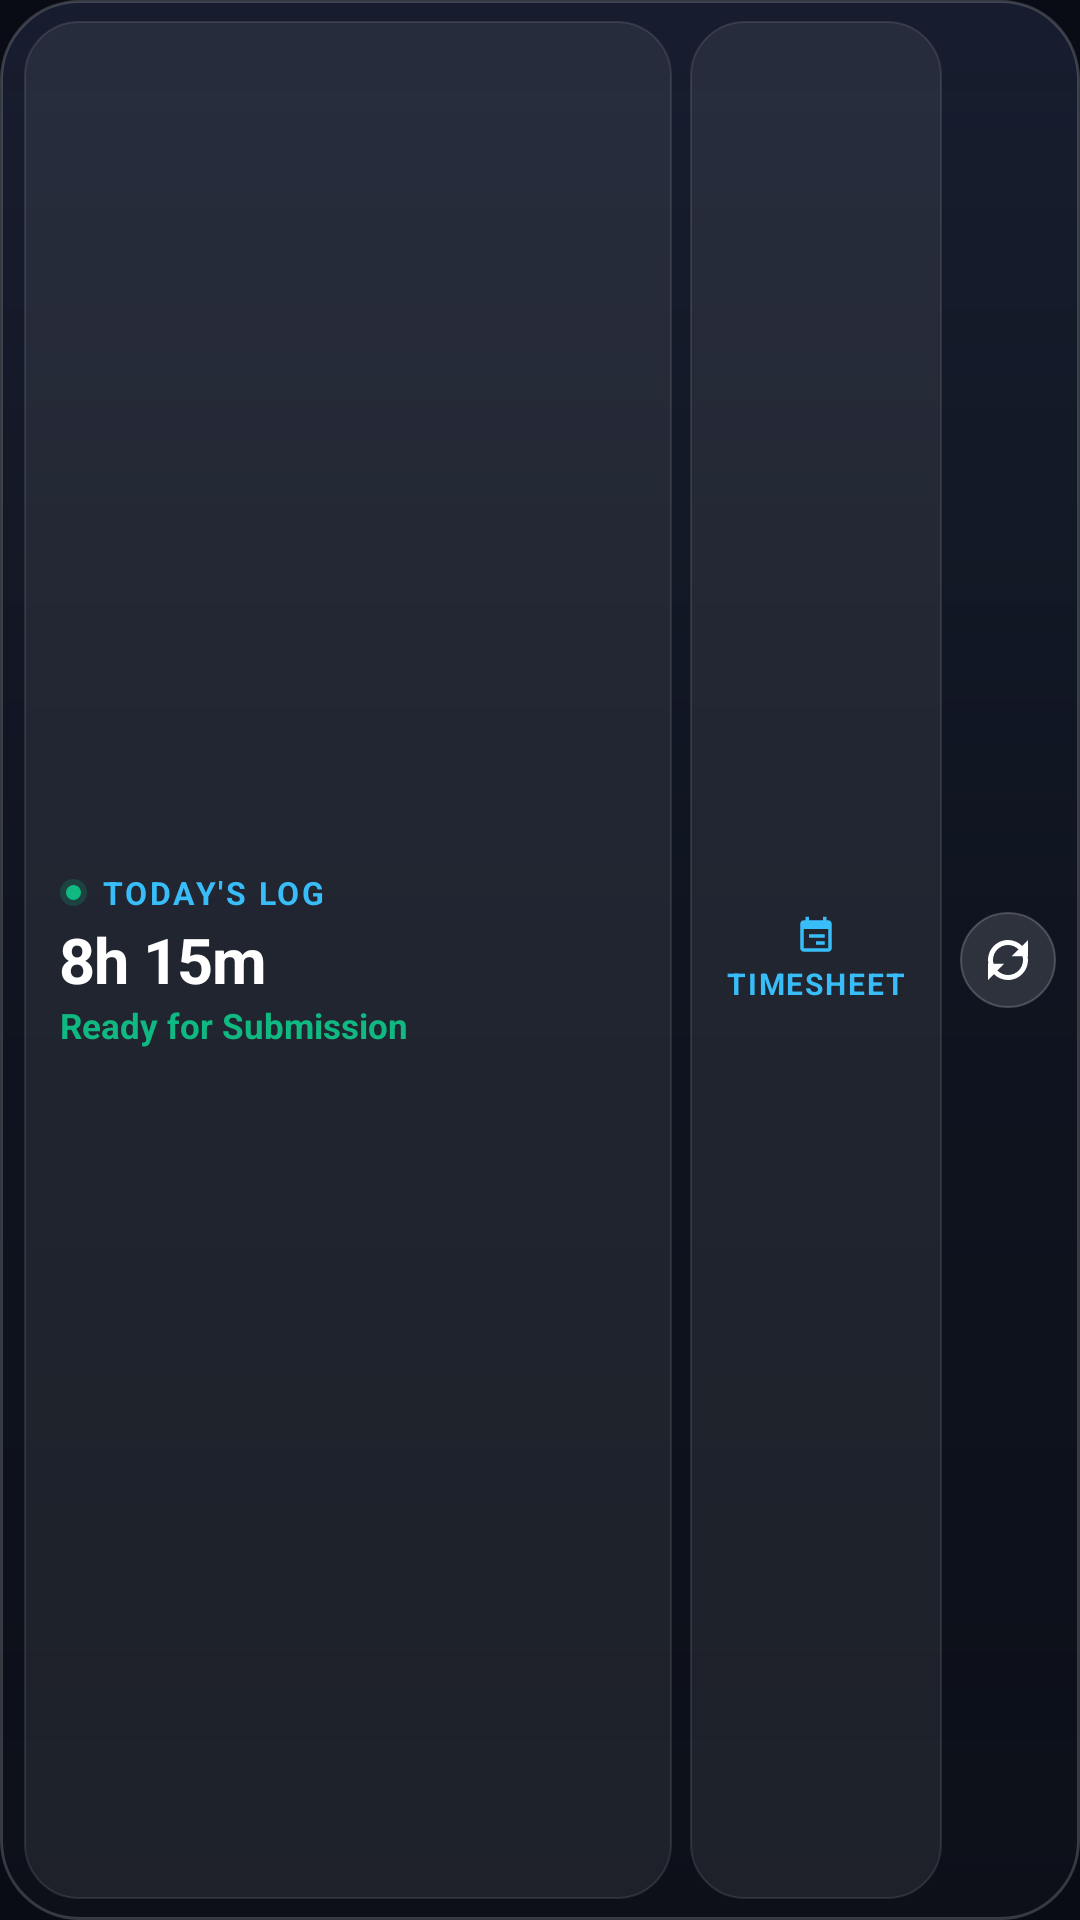

Locate icon controls on the screen. Image size 1080 x 1920, boxes as (x1, y1, x2, y2).
Live Status Beacon: (60, 879, 87, 906)
Refresh attendance stats: (960, 912, 1056, 1008)
